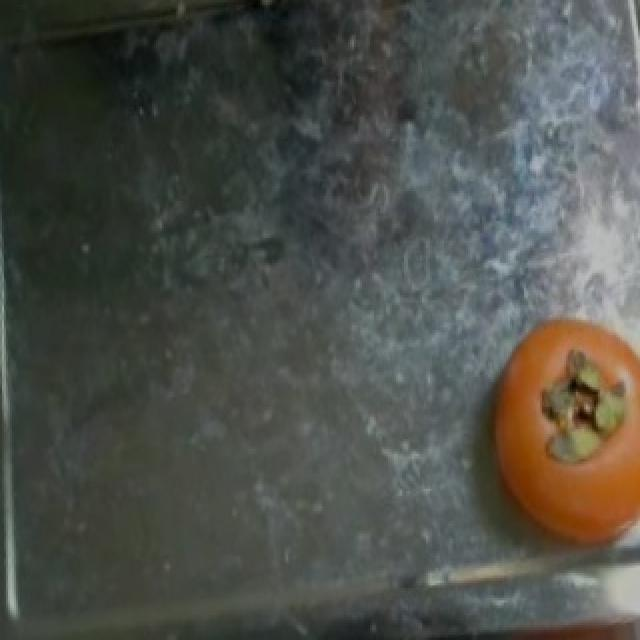Fruit: (458, 293, 640, 583)
